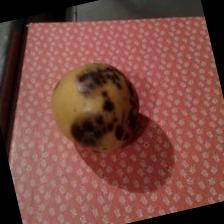Mango Rotten: (41, 54, 149, 162)
